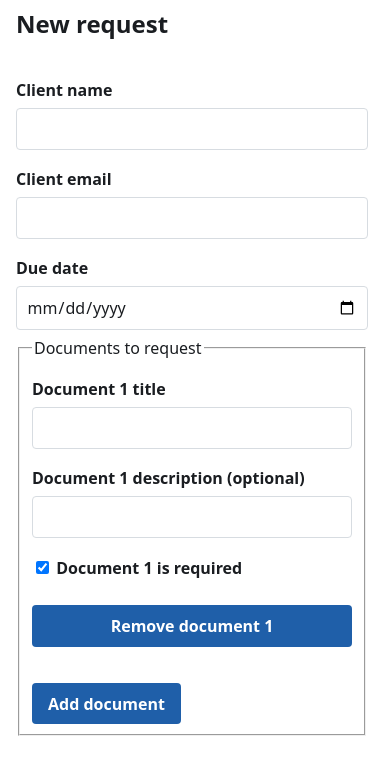
Test: CreateRequestPage › adds and removes documents
Step 1. Click the button "Add document" → [106, 704], box 32,683 -> 181,724
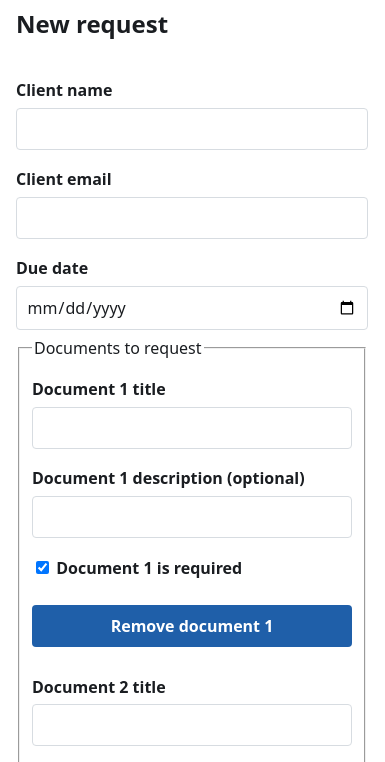
Check: the field labelled "Document 2 title" is shown, box 32,704 -> 352,746
Step 2. Click the button "Remove document 1" → [192, 626], box 32,605 -> 352,647
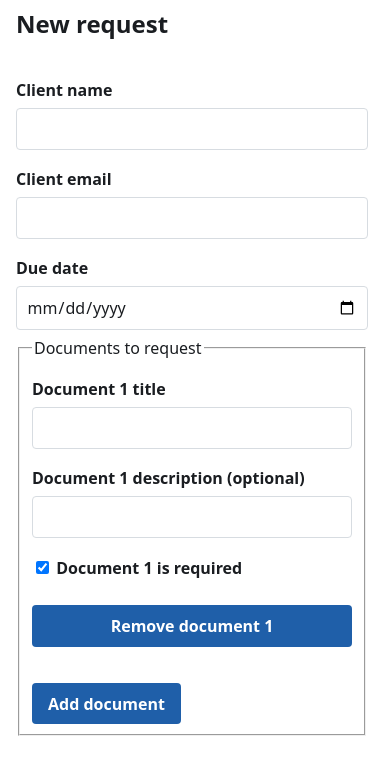
Check: the field labelled "Document 1 title" is shown, box 32,407 -> 352,449
Check: the label labelled "Document 2 title" is gone
